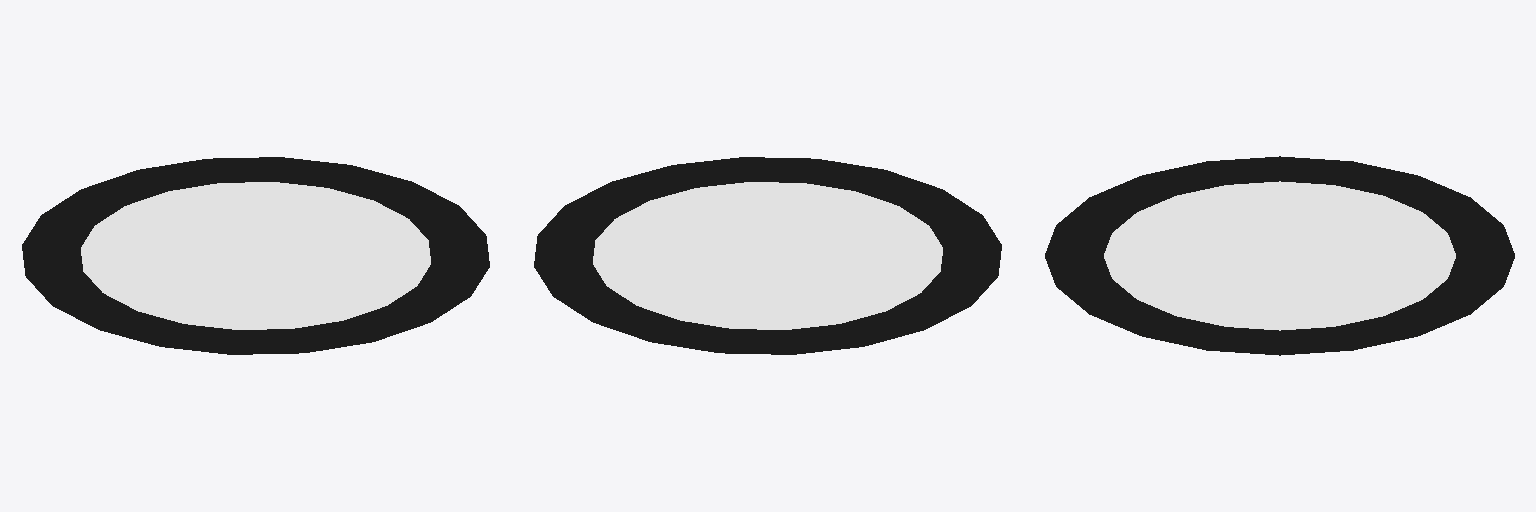
The model's file is pointer.obj.
3 views of the same model, side by side, from view 1: azimuth 30°, elevation 25°; view 2: azimuth 150°, elevation 25°; view 3: azimuth 270°, elevation 25° (orthographic).
Parts seen in each view (by area): view 1: pCylinder1; view 2: pCylinder1; view 3: pCylinder1.
Boxes of the visible parts, <box> form: pCylinder1: <box>22,157,489,354</box>; pCylinder1: <box>534,157,1001,354</box>; pCylinder1: <box>1045,156,1514,355</box>.
Bounding box in the file's own units: 81.37 × 0 × 81.37.